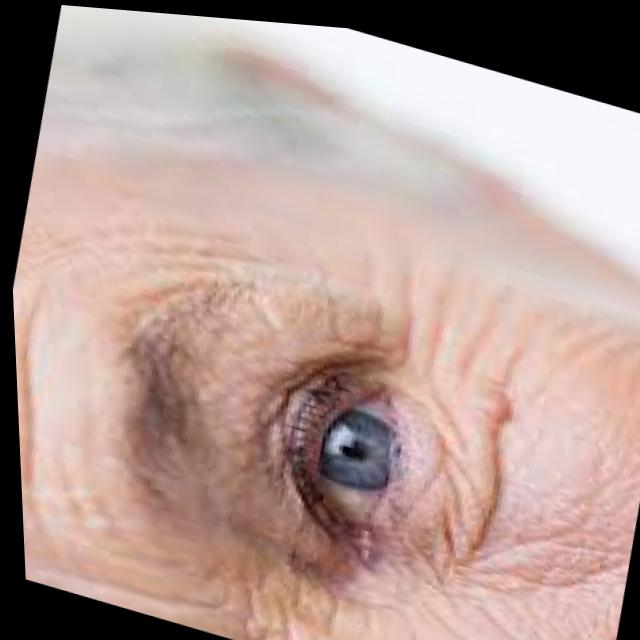Wrinkles: (382, 231, 535, 563), (15, 282, 37, 545)
